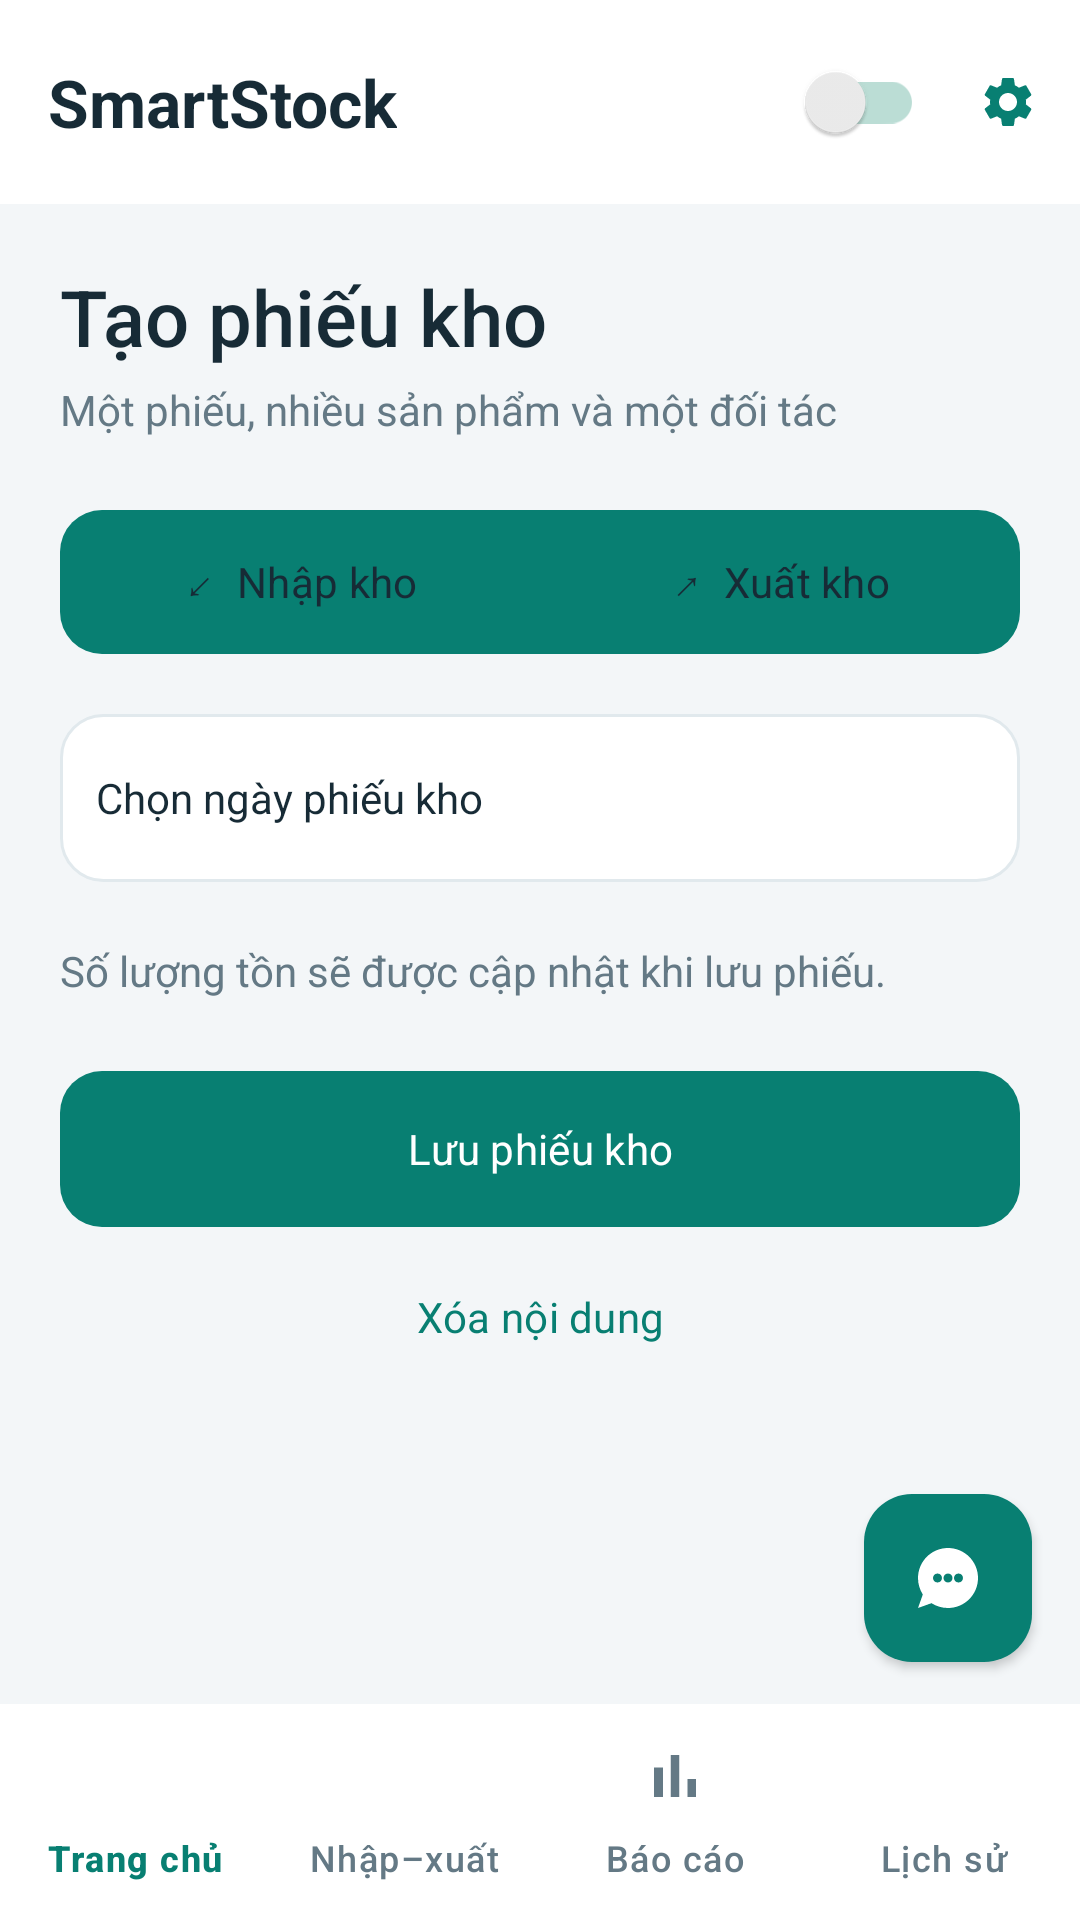

Icons on this 1080 x 1920 Android screen, each with its box as (x1, y1, x2, y2):
Cài đặt: (984, 78, 1032, 126)
